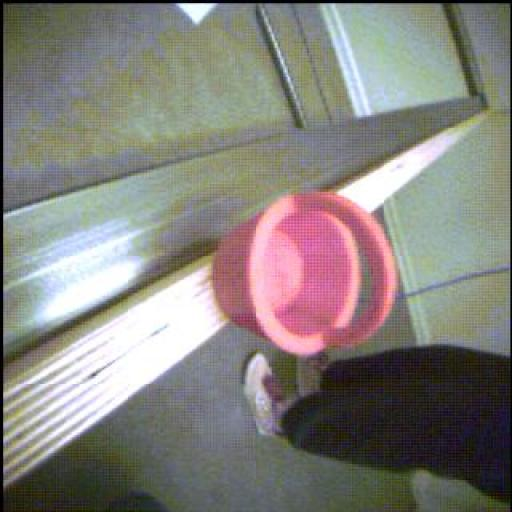Bucket: (218, 187, 400, 360)
